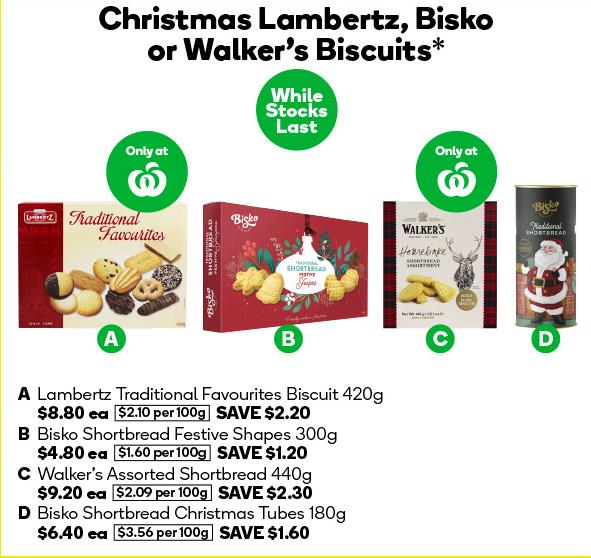description_block: (30, 382, 394, 408), (33, 460, 325, 488), (30, 499, 357, 523), (32, 424, 348, 446)
price_main: (26, 398, 113, 428), (29, 479, 110, 506), (27, 524, 109, 548), (36, 443, 111, 463)
product_image_block: (14, 196, 192, 354), (198, 189, 379, 334), (377, 192, 505, 334), (509, 176, 585, 333)
promo_text_block: (215, 521, 327, 550), (214, 402, 324, 426), (217, 441, 312, 466), (219, 484, 316, 505)
unit_price_block: (110, 478, 218, 507), (110, 441, 214, 469), (111, 522, 219, 543), (116, 402, 211, 422)
